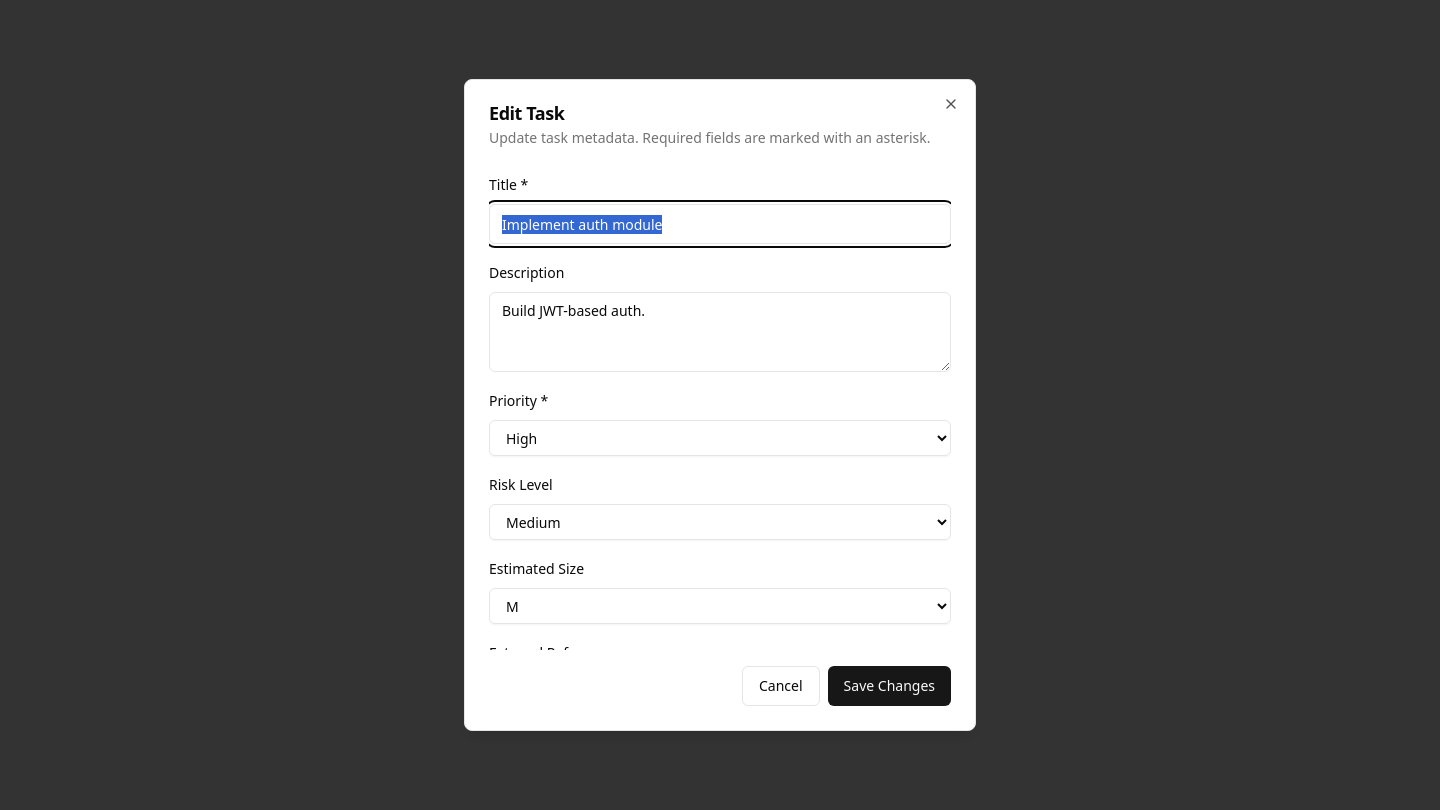
Test: EditTaskDialog › shows error message on generic failure
The image size is (1440, 810).
Click the button with test id "edit-task-submit" at (889, 686), box left=828, top=666, right=951, bottom=706
(page scrolled)
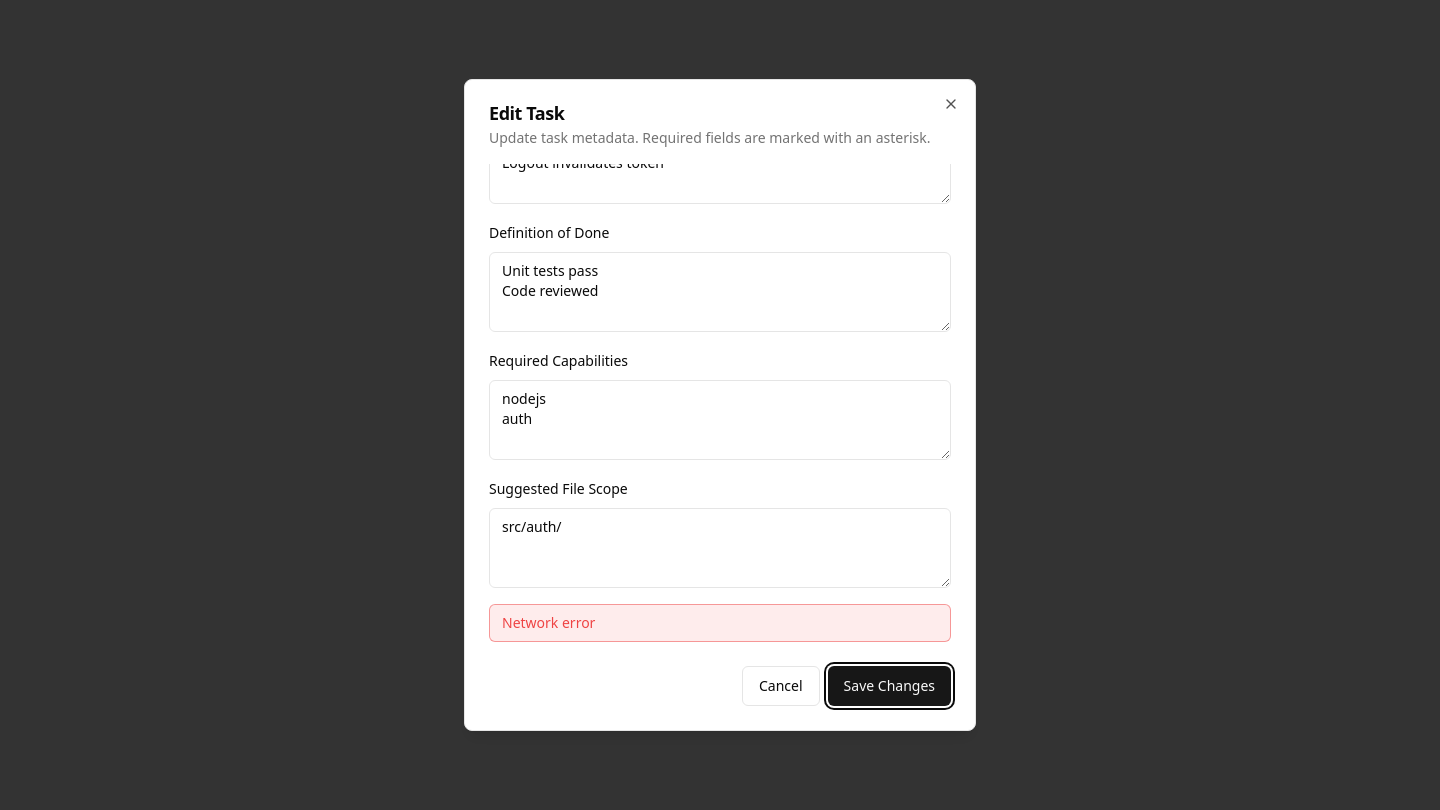
expect the message "Network error" is shown: met, box left=489, top=604, right=951, bottom=642
expect the message with test id "edit-task-error" reads "Network error": met, box left=502, top=613, right=595, bottom=632
